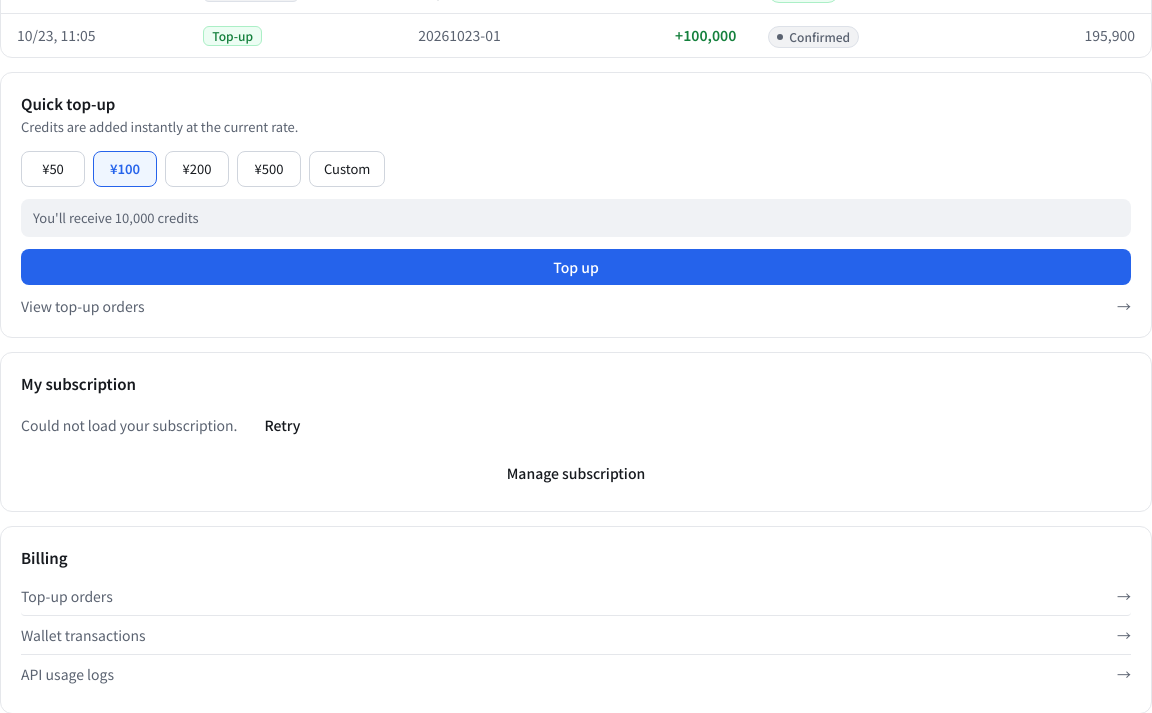
WalletOverview › shows a retry when the subscription read fails
(page scrolled)
Expected: the text "Could not load your subscription." is shown, [21,414,238,436]
Click the button "Retry" at point(282, 425), box [250,407,315,443]
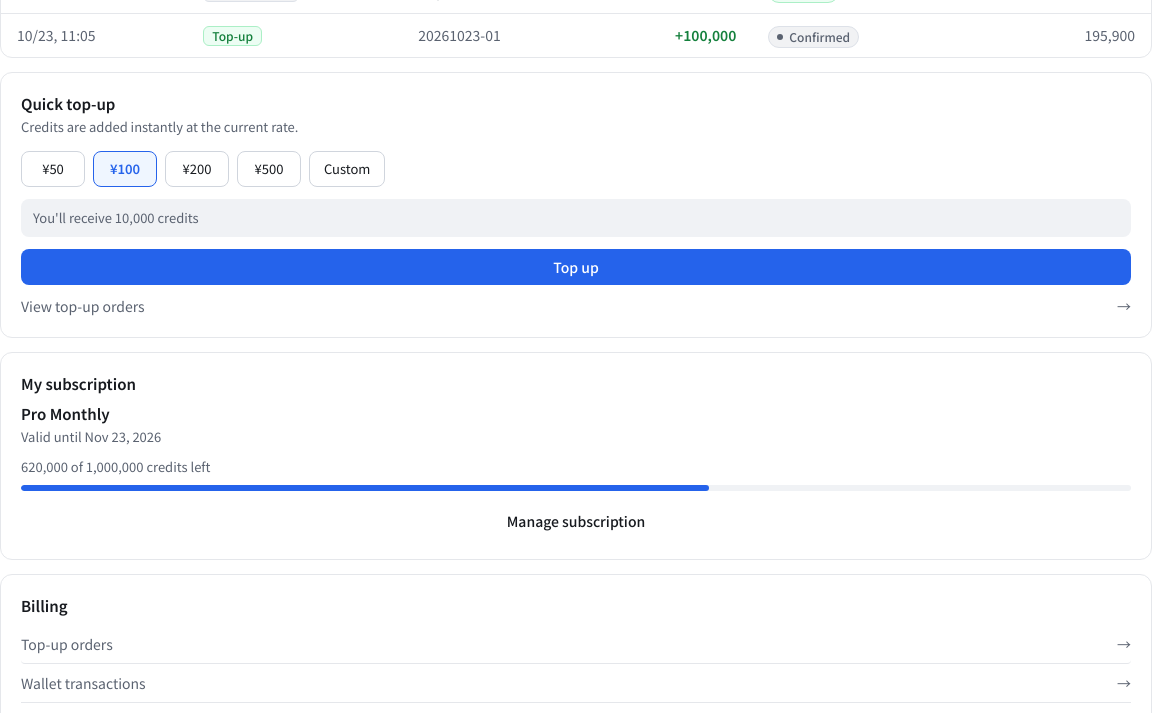
Expected: the text "Pro Monthly" is shown, [21,403,110,424]
